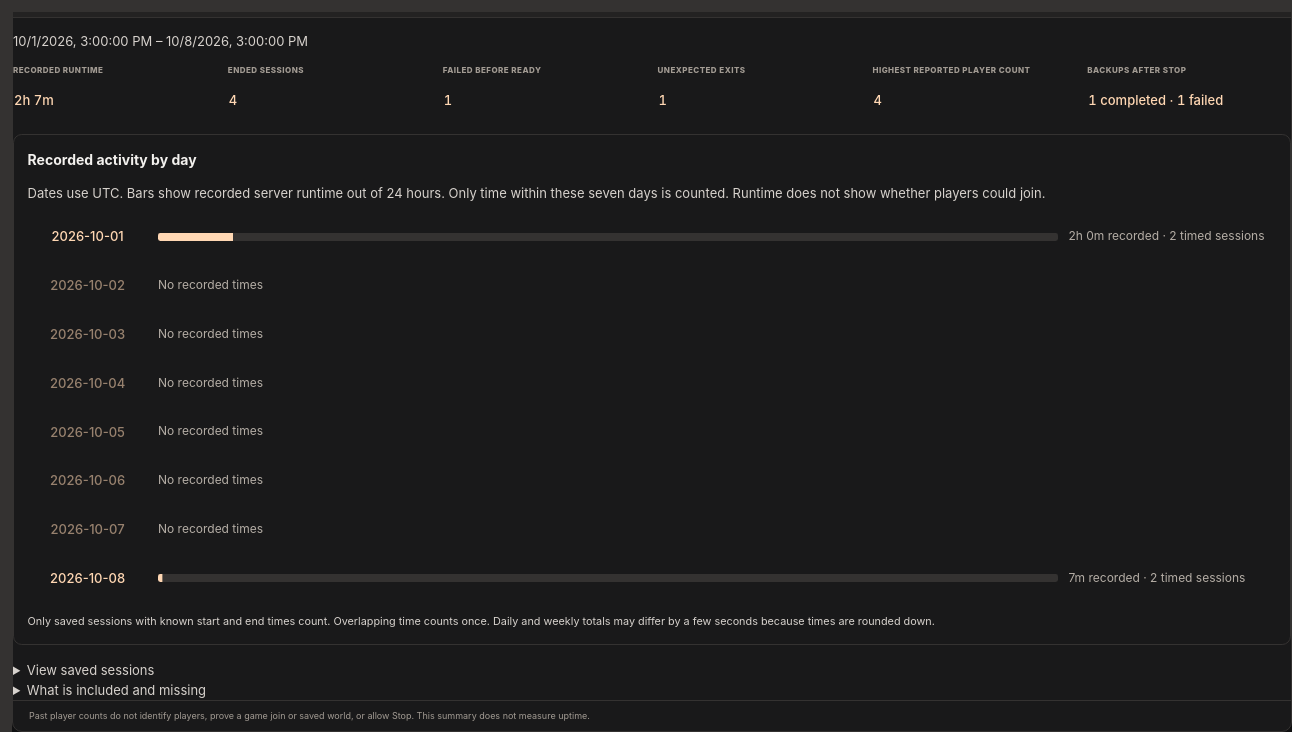
Scenario: WeeklySummary › charts actual daily intervals and opens a UTC day while leaving days without timing unavailable
(page scrolled)
Expected: the picture named "2026-10-01: 2h 0m recorded runtime" is shown, [158,232,1058,240]
Expected: the picture named "2026-10-08: 7m recorded runtime" is shown, [158,574,1058,582]
Click the button named "Show recorded sessions on 2026-10-01 (UTC)": [88, 236] box [28,216,148,256]
(page scrolled)
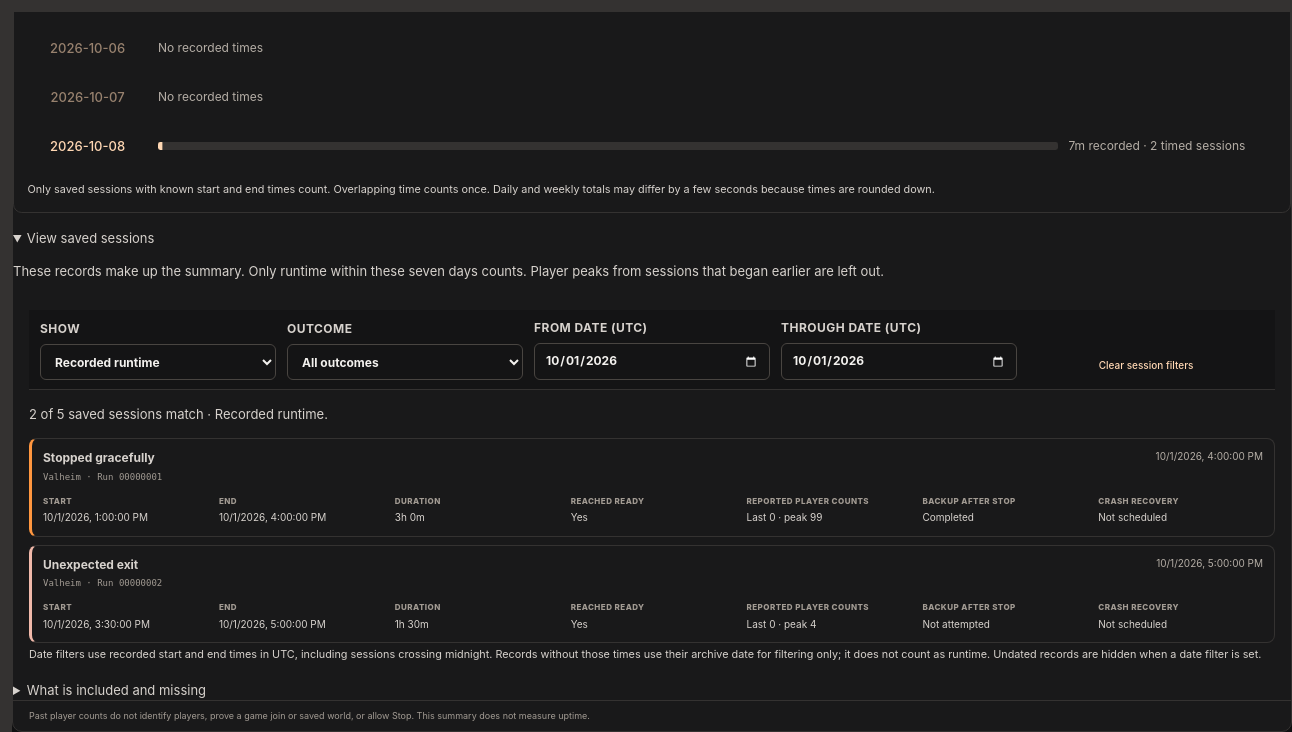
Expected: the date field named "Sessions from date (UTC)" holds "2026-10-01", [534,343,770,380]
Expected: the date field named "Sessions through date (UTC)" holds "2026-10-01", [781,343,1017,380]
Expected: the text "2 of 5 saved sessions match · Recorded runtime." is shown, [29,406,328,422]
